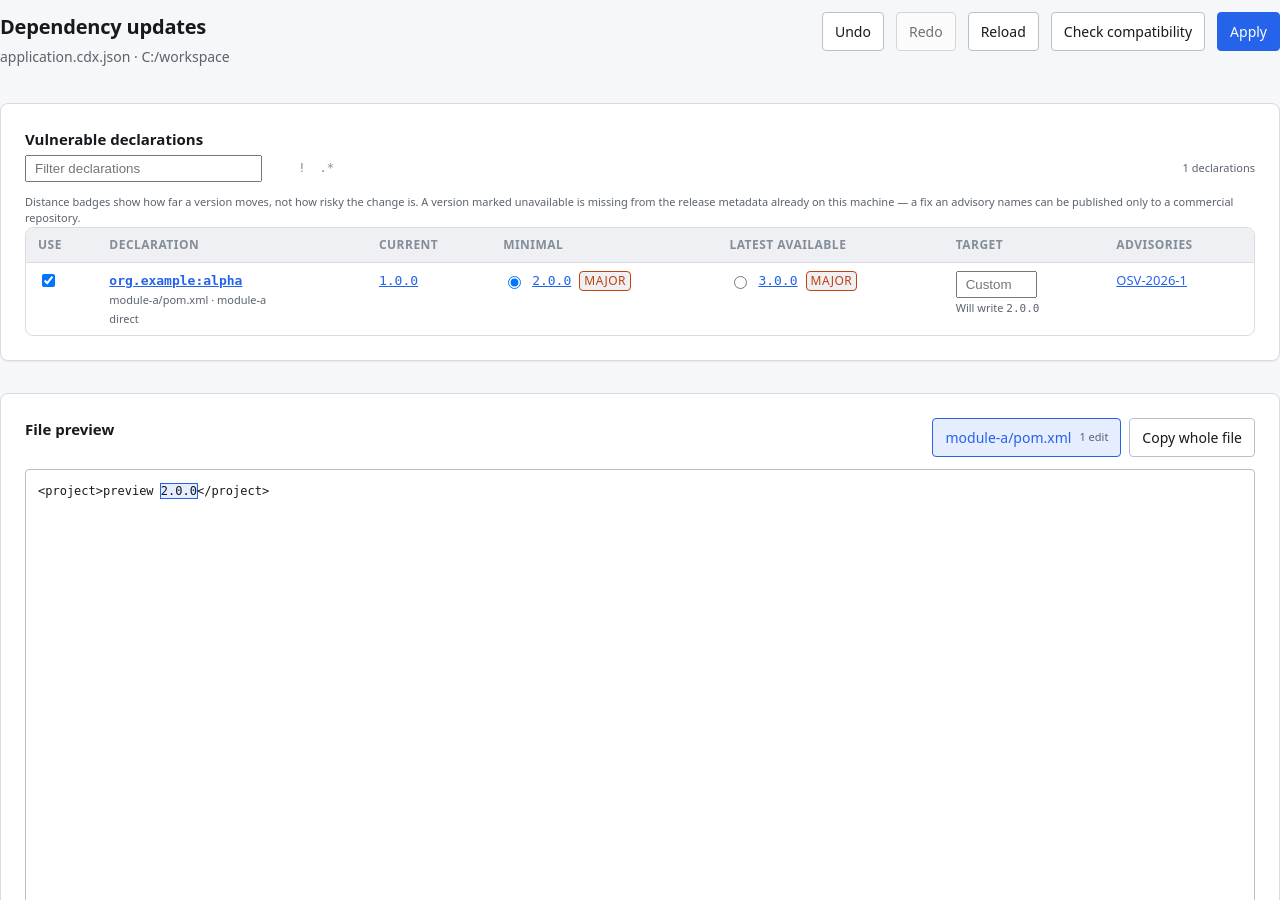
Test: BumpPage › keeps the dialog open and reports the reason when a gate refuses
Expected: the checkbox named "Select org.example:alpha" is shown, 42,274 -> 55,286
Click the button "Apply" at [1249, 32], box 1217,12 -> 1279,51
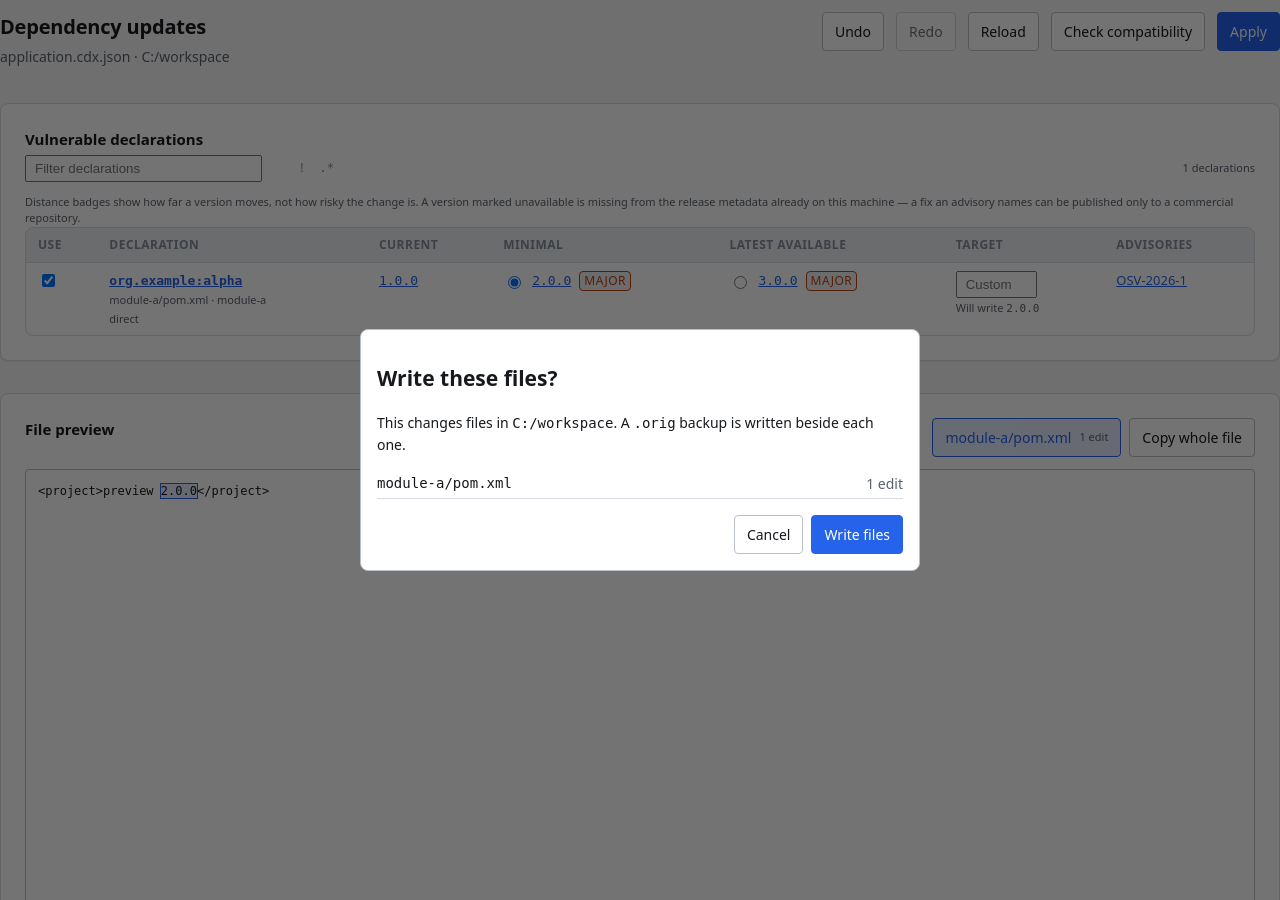
Click the button "Write files" at [857, 535], box 812,515 -> 903,554
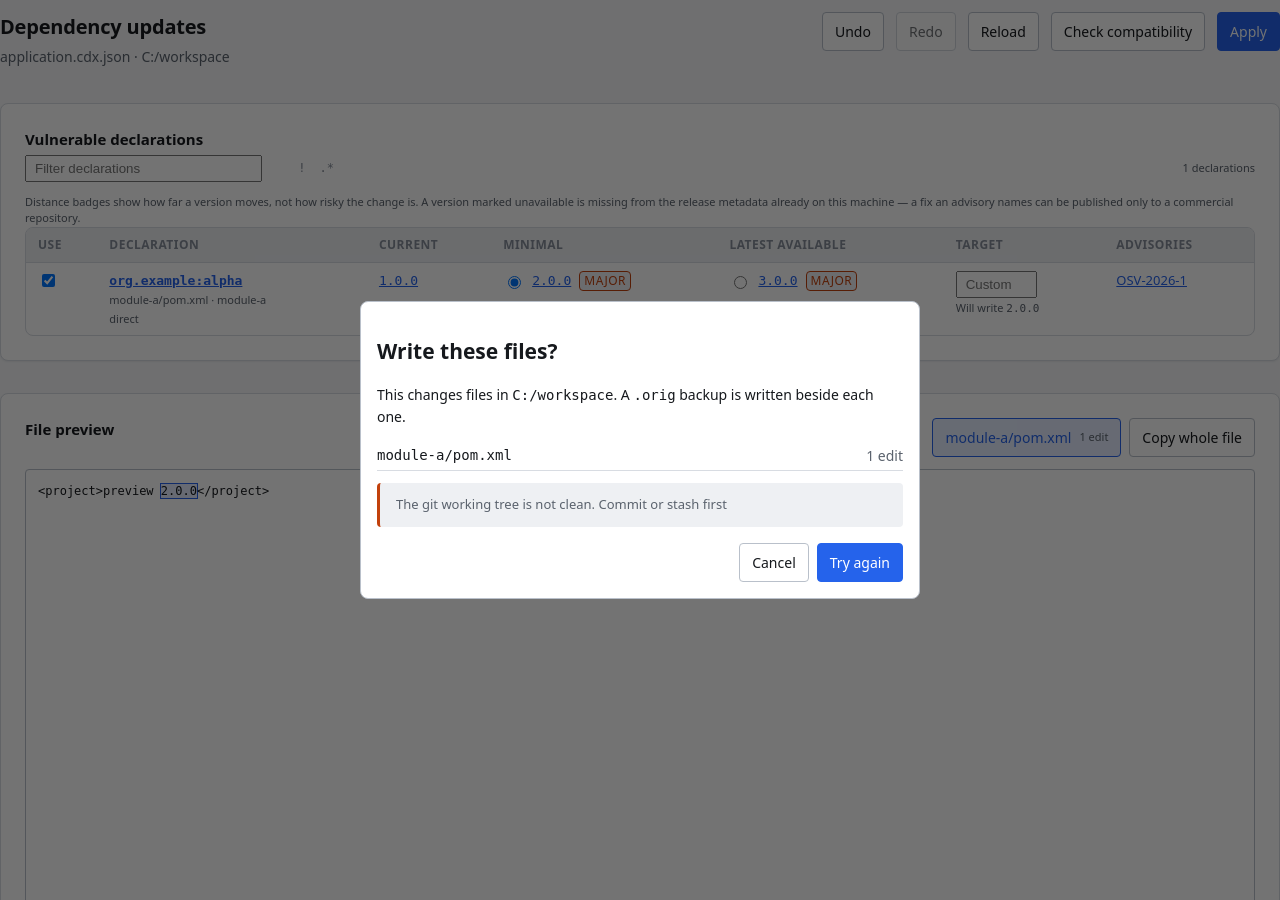
Result: the dialog is shown
Result: the button "Try again" is enabled at 817,543 -> 903,582
Result: the message shows "Commit or stash first" at 396,495 -> 727,513
